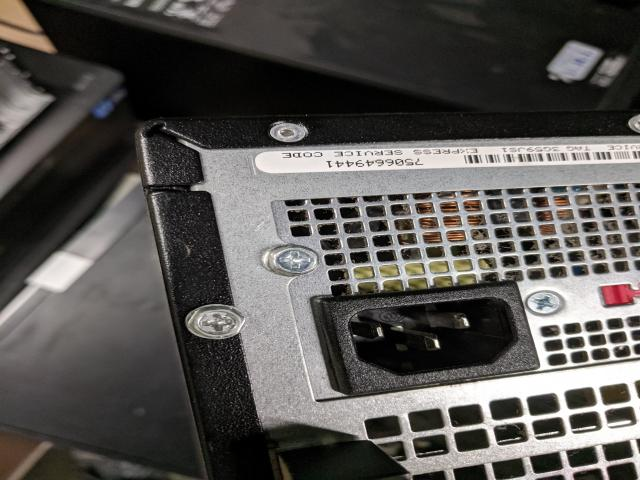CRS: (181, 306, 250, 341), (262, 241, 322, 279), (523, 289, 566, 317)
